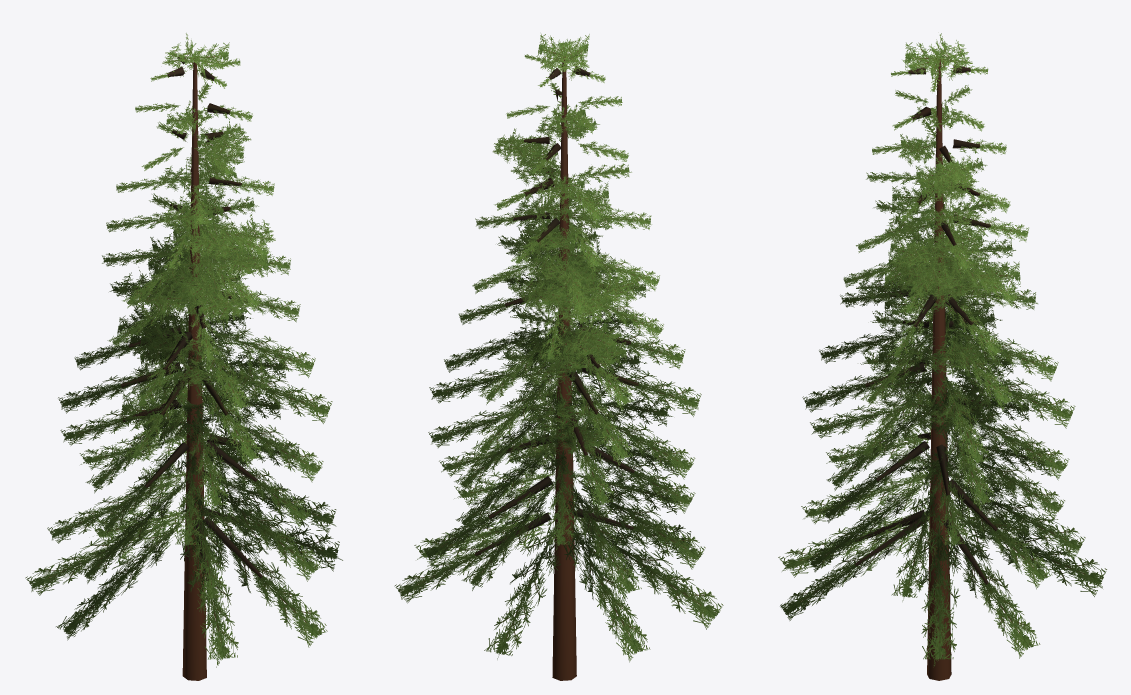
Rendered from tree-alerce.glb.
3 renders of one model, left to right at view 1: azimuth 30°, elevation 25°; view 2: azimuth 150°, elevation 25°; view 3: azimuth 270°, elevation 25°, orthographic.
Visible parts, largest first — view 1: tree-alerce; view 2: tree-alerce; view 3: tree-alerce.
Boxes of the visible parts, box(x1,y1,x2,y2) form: tree-alerce: box(25, 33, 342, 680); tree-alerce: box(394, 34, 723, 680); tree-alerce: box(778, 33, 1106, 680).
Bounding box in the file's own units: 11.24 × 22.48 × 11.07.
2 materials, 1 textured.
